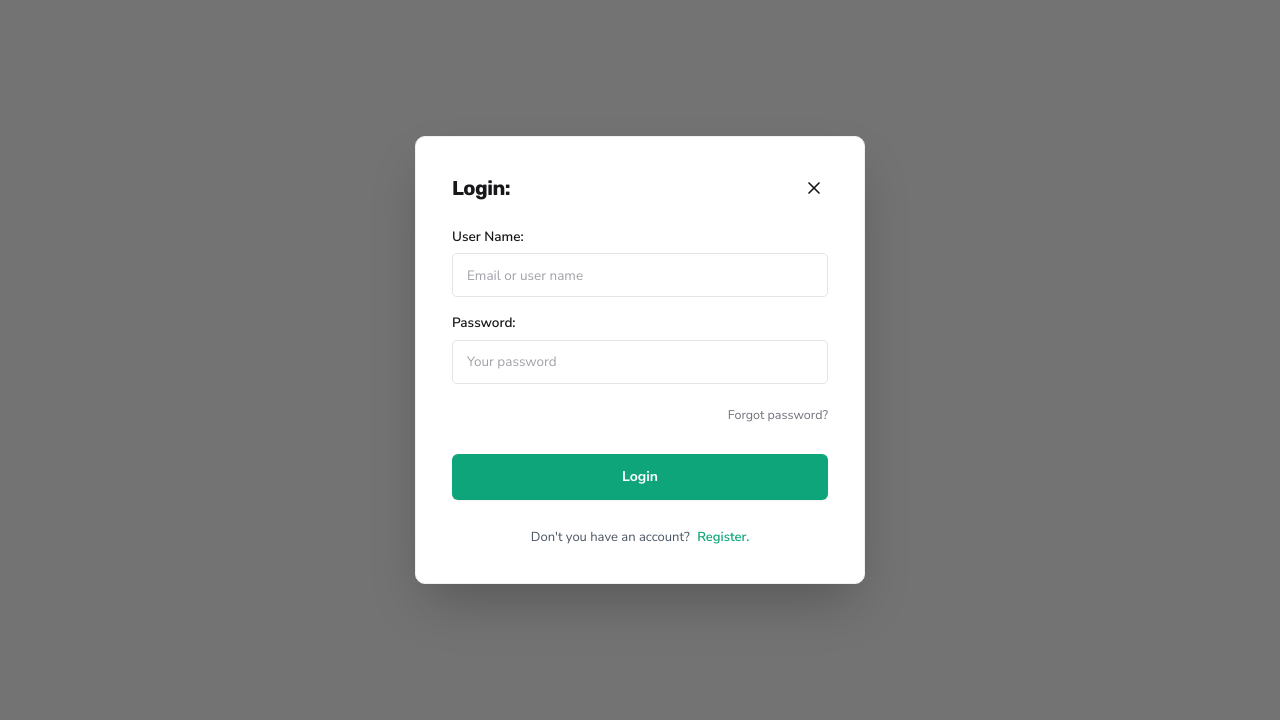
Scenario: AuthModal Component Unit Tests › should switch to Register tab when user clicks Register
The width and height of the screenshot is (1280, 720).
Click the button "Register.": (723, 537) [697,528,749,547]
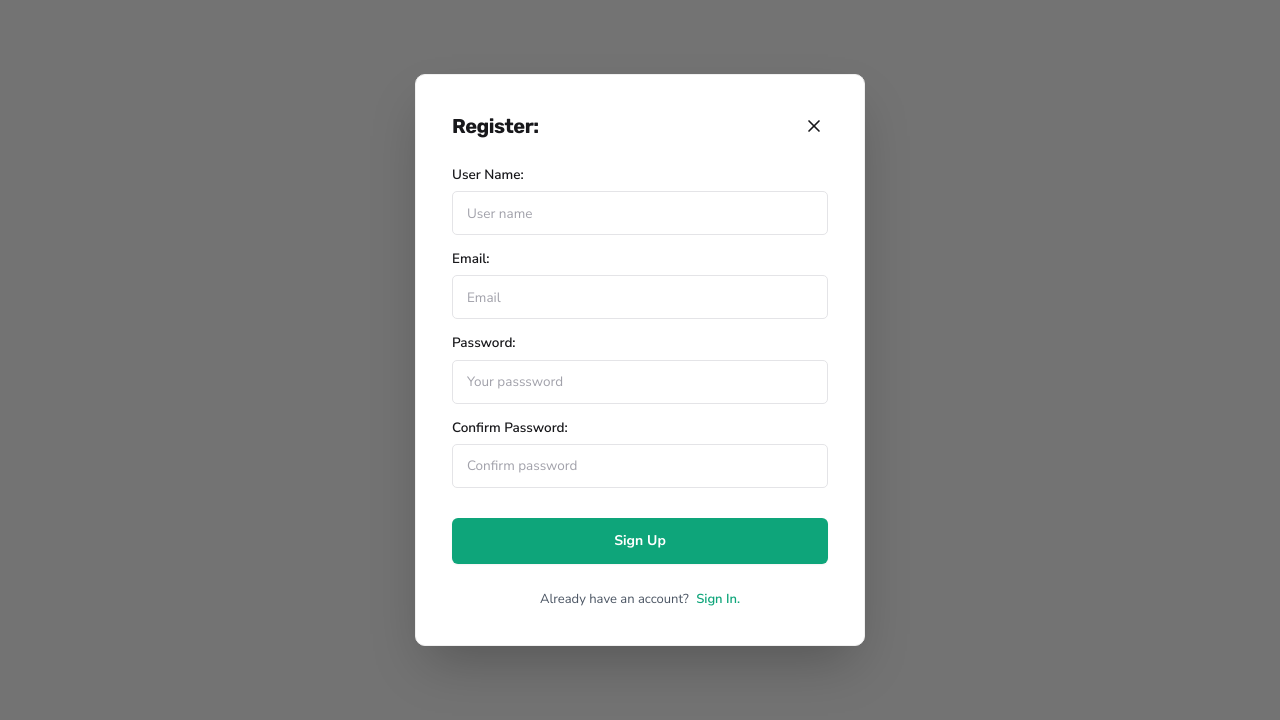
Expected: the field with placeholder "User name" is shown, [452,191,828,235]
Expected: the heading "Register:" is shown, [452,111,539,141]
